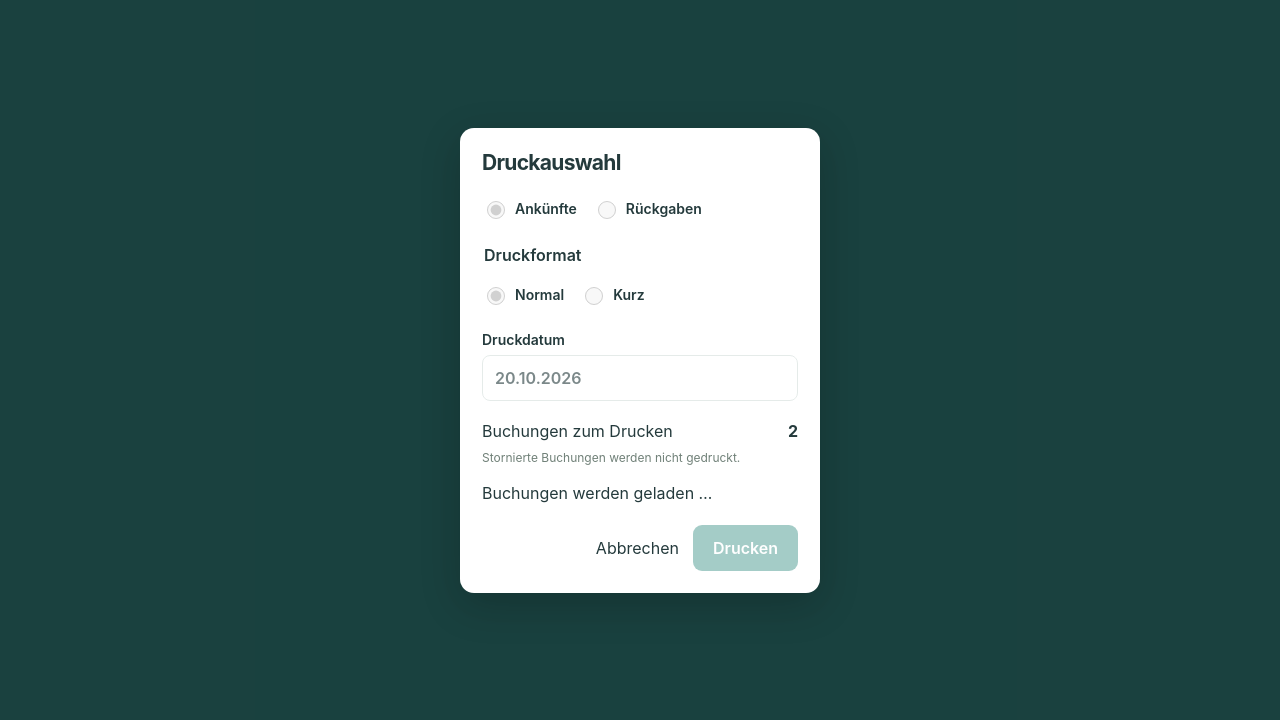
blocks loading and load errors, can cancel during loading
Check: the button "Drucken" is disabled, box [693,524,798,570]
Click the button "Abbrechen": click(637, 548) [590,524,685,570]
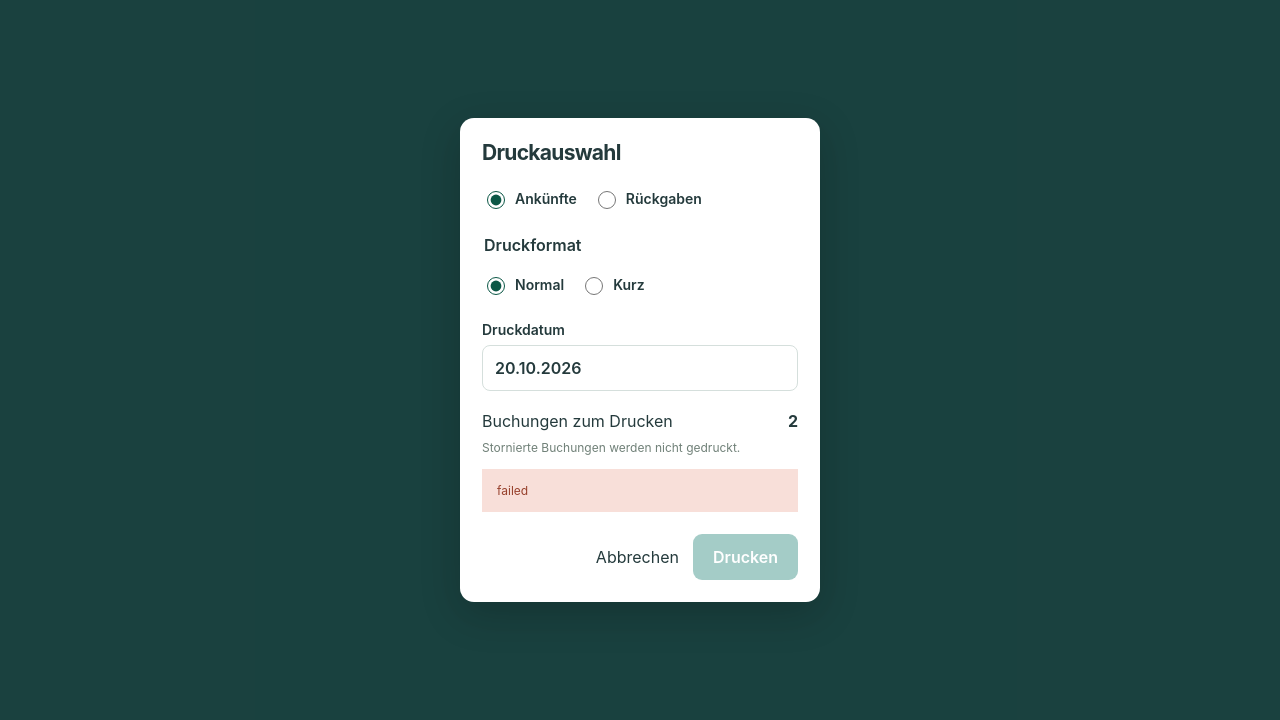
Check: the button "Drucken" is disabled, box [693,534,798,580]
Check: the message "failed" is shown, box [482,469,798,512]
